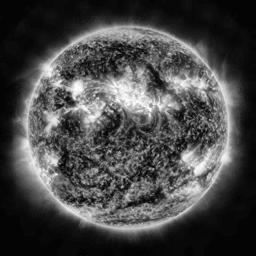solar flares: (112, 81, 151, 114), (77, 106, 107, 129), (167, 74, 206, 90), (192, 151, 214, 178), (71, 82, 92, 103), (42, 145, 63, 166), (181, 176, 201, 198), (155, 92, 175, 113), (42, 110, 62, 127), (48, 68, 62, 87), (181, 148, 196, 162)
sunspots: (76, 54, 118, 73), (106, 44, 141, 62), (147, 66, 166, 89), (57, 116, 81, 133), (171, 54, 194, 70), (138, 194, 167, 206), (142, 168, 161, 183), (79, 157, 98, 171), (181, 132, 196, 145), (108, 119, 124, 130), (189, 98, 206, 108), (174, 110, 186, 121)
